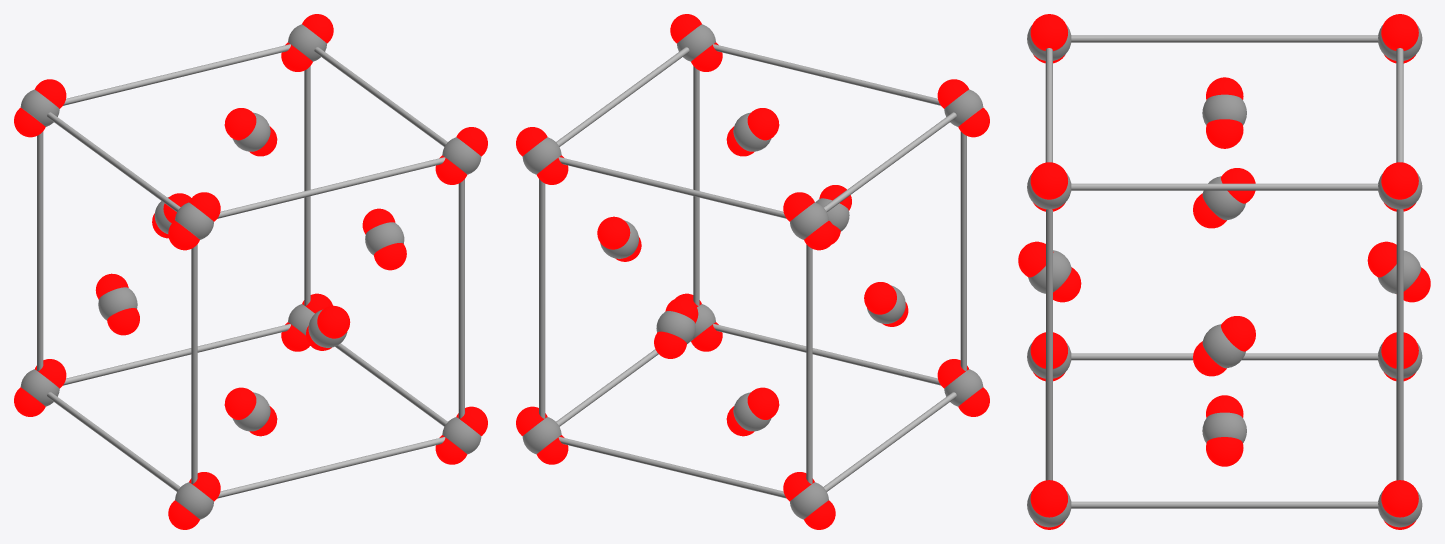
The model's file is co2_jt_yuan.gltf.
The picture shows the model from 3 angles, left to right: view 1: azimuth 30°, elevation 25°; view 2: azimuth 150°, elevation 25°; view 3: azimuth 270°, elevation 25°; orthographic projection. The views are drawn at different scales.
Visible parts, largest first — view 1: co2_jt_yuan; view 2: co2_jt_yuan; view 3: co2_jt_yuan.
Boxes of the visible parts, box(x1,y1,x2,y2) form: co2_jt_yuan: box(14, 14, 487, 529); co2_jt_yuan: box(516, 14, 989, 529); co2_jt_yuan: box(1018, 14, 1430, 529).
Size of the model in its own units: 99.07 by 99.09 by 98.79.
